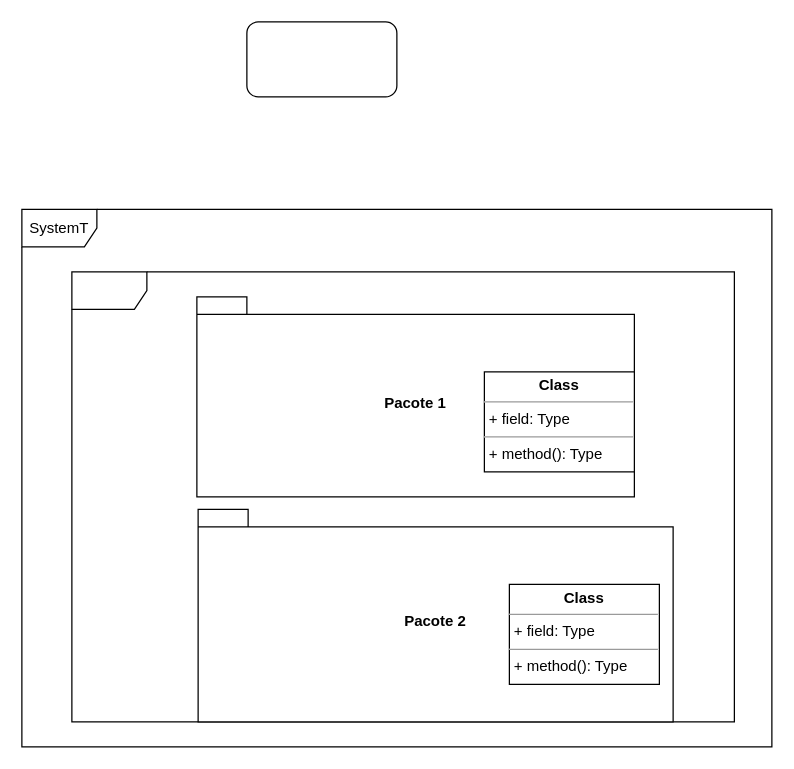
Image size: 794x769. Some labels were removed from this diagram. The shapes that lost their labels are listed below. From the top down, each one's box as (x1, y1, x2, y2) in pixels, then its label:
(246, 21, 397, 97): Cenário 3
(71, 271, 734, 722): Biblioteca
